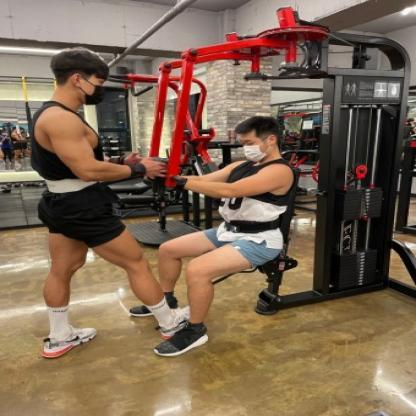chest fly machine: (120, 0, 416, 378)
